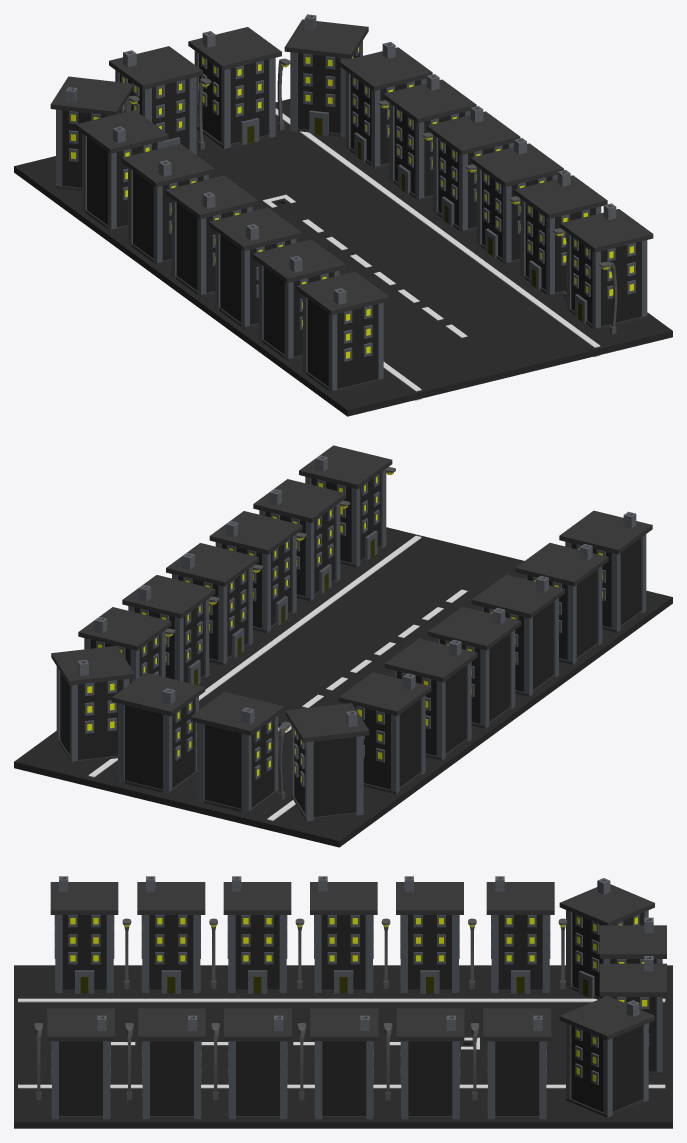
Rendered from stage2.fbx.
The picture shows the model from 3 angles, top to bottom: view 1: azimuth 30°, elevation 25°; view 2: azimuth 150°, elevation 25°; view 3: azimuth 270°, elevation 25°; orthographic projection.
Parts seen in each view (by area): view 1: Cube, Cube.017, Cube.033, Cube.044, Cube.048, Cube.030, Cube.013, Cube.037, Cube.027, Cube.001, Cube.007, Cube.021 (+7 smaller); view 2: Cube, Cube.041, Cube.044, Cube.047, Cube.013, Cube.048, Cube.010, Cube.033, Cube.017, Cube.007, Cube.030, Cube.001 (+7 smaller); view 3: Cube, Cube.048, Cube.004, Cube.017, Cube.021, Cube.001, Cube.013, Cube.024, Cube.037, Cube.010, Cube.007, Cube.027 (+11 smaller).
Part boxes in pixels (x1=…): Cube: x1=14, y1=99, x2=672, y2=416; Cube.017: x1=296, y1=271, x2=389, y2=393; Cube.033: x1=560, y1=203, x2=653, y2=330; Cube.044: x1=188, y1=27, x2=281, y2=148; Cube.048: x1=284, y1=14, x2=368, y2=137; Cube.030: x1=514, y1=169, x2=607, y2=297; Cube.013: x1=76, y1=110, x2=168, y2=231; Cube.037: x1=339, y1=42, x2=432, y2=169; Cube.027: x1=470, y1=138, x2=563, y2=265; Cube.001: x1=252, y1=239, x2=345, y2=361; Cube.007: x1=165, y1=175, x2=258, y2=297; Cube.021: x1=383, y1=74, x2=476, y2=201; Cube: x1=14, y1=527, x2=672, y2=847; Cube.041: x1=191, y1=692, x2=284, y2=813; Cube.044: x1=111, y1=672, x2=205, y2=794; Cube.047: x1=285, y1=703, x2=369, y2=821; Cube.013: x1=338, y1=672, x2=431, y2=794; Cube.048: x1=51, y1=645, x2=134, y2=763; Cube.010: x1=384, y1=638, x2=477, y2=760; Cube.033: x1=299, y1=445, x2=392, y2=567; Cube.017: x1=559, y1=510, x2=652, y2=632; Cube.007: x1=428, y1=606, x2=521, y2=728; Cube.030: x1=253, y1=479, x2=346, y2=600; Cube.001: x1=515, y1=543, x2=608, y2=664; Cube: x1=14, y1=965, x2=672, y2=1128; Cube.048: x1=559, y1=996, x2=654, y2=1117; Cube.004: x1=223, y1=876, x2=291, y2=993; Cube.017: x1=50, y1=876, x2=118, y2=993; Cube.021: x1=396, y1=1008, x2=464, y2=1119; Cube.001: x1=137, y1=876, x2=205, y2=993; Cube.013: x1=486, y1=876, x2=554, y2=993; Cube.024: x1=310, y1=1008, x2=378, y2=1119; Cube.037: x1=483, y1=1008, x2=551, y2=1119; Cube.010: x1=396, y1=876, x2=463, y2=993; Cube.007: x1=310, y1=876, x2=377, y2=993; Cube.027: x1=224, y1=1008, x2=291, y2=1119.
Bounding box in the file's own units: 2354 × 992 × 4179.
